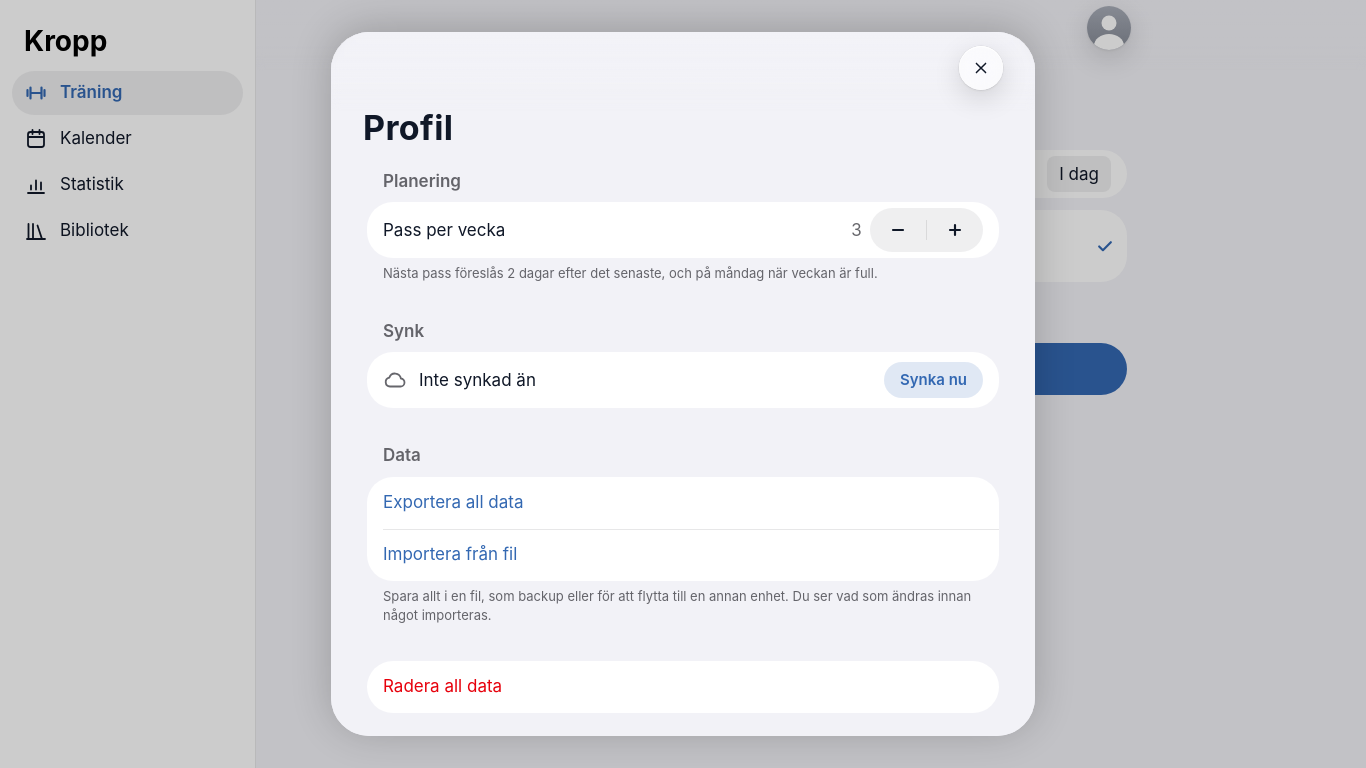
Scenario: starts sessions a week at three and saves them when changed
The image size is (1366, 768).
Expected: the number field named "Pass per vecka" holds "3", [814,208,862,252]
Expected: the text with test id "settings-effect" shows "2 dagar", [383,265,878,281]
Step 1. Click the button with test id "decrease" → (898, 230), box [870,208,926,252]
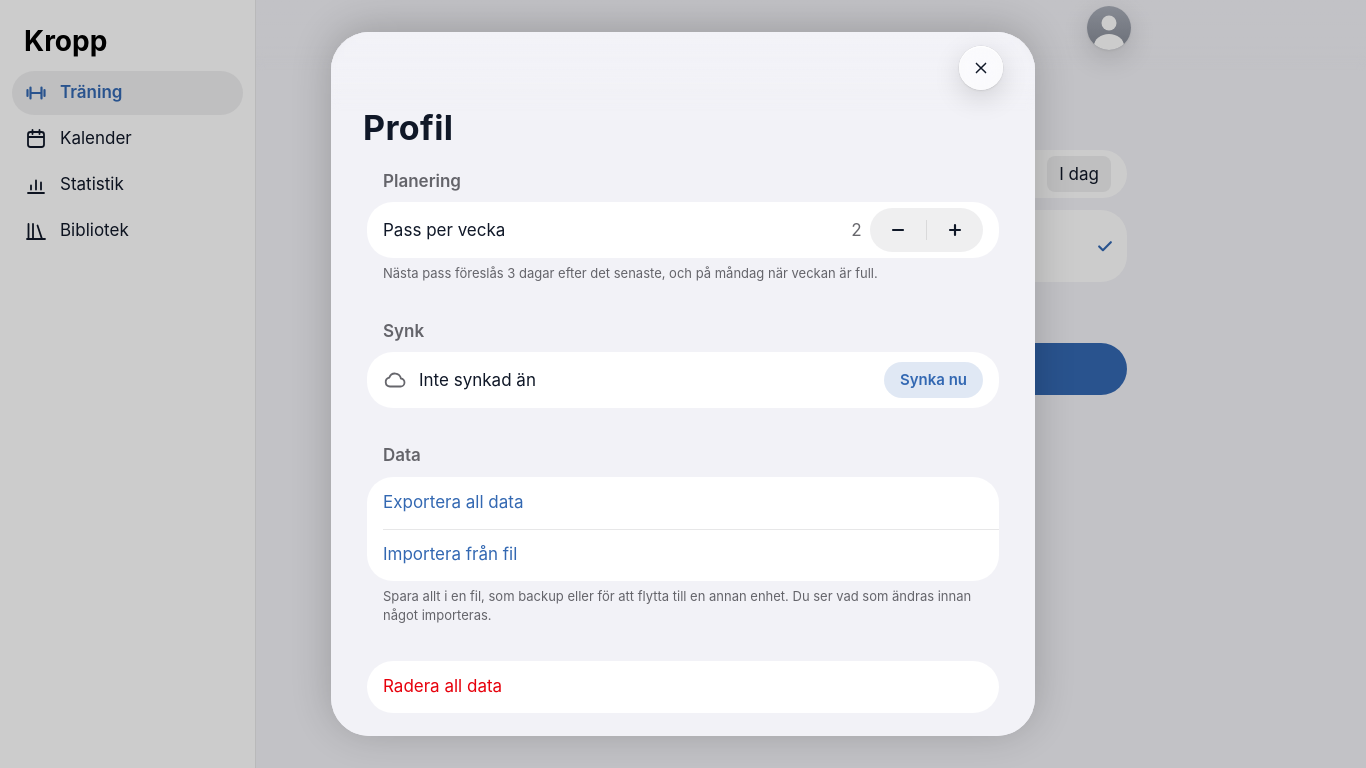
Result: the text with test id "settings-effect" shows "3 dagar" at [383,265,878,281]
